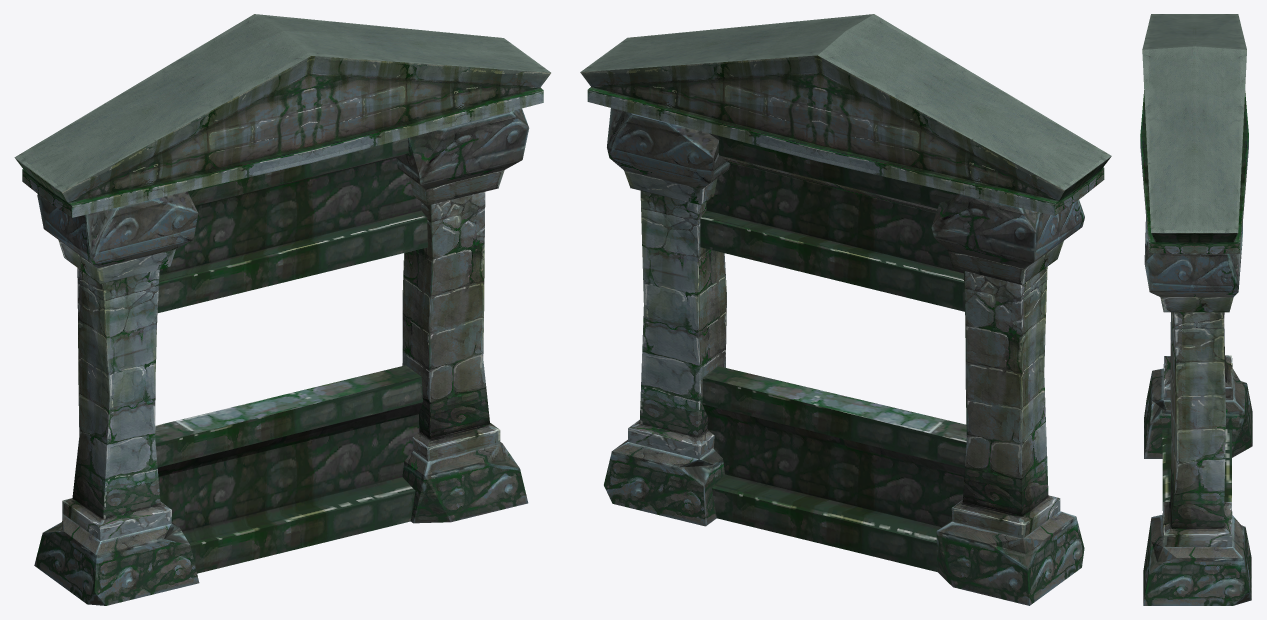
Rendered from stemple_pediment_03.fbx.
3 views of the same model, side by side, from view 1: azimuth 30°, elevation 25°; view 2: azimuth 150°, elevation 25°; view 3: azimuth 270°, elevation 25° (orthographic). The views are drawn at different scales.
Parts seen in each view (by area): view 1: obj1.067; view 2: obj1.067; view 3: obj1.067.
Boxes of the visible parts, x1=… form: obj1.067: x1=14, y1=14, x2=550, y2=605; obj1.067: x1=580, y1=14, x2=1111, y2=605; obj1.067: x1=1140, y1=14, x2=1252, y2=605.
Size of the model in its own units: 7.17 by 7.06 by 1.55.
